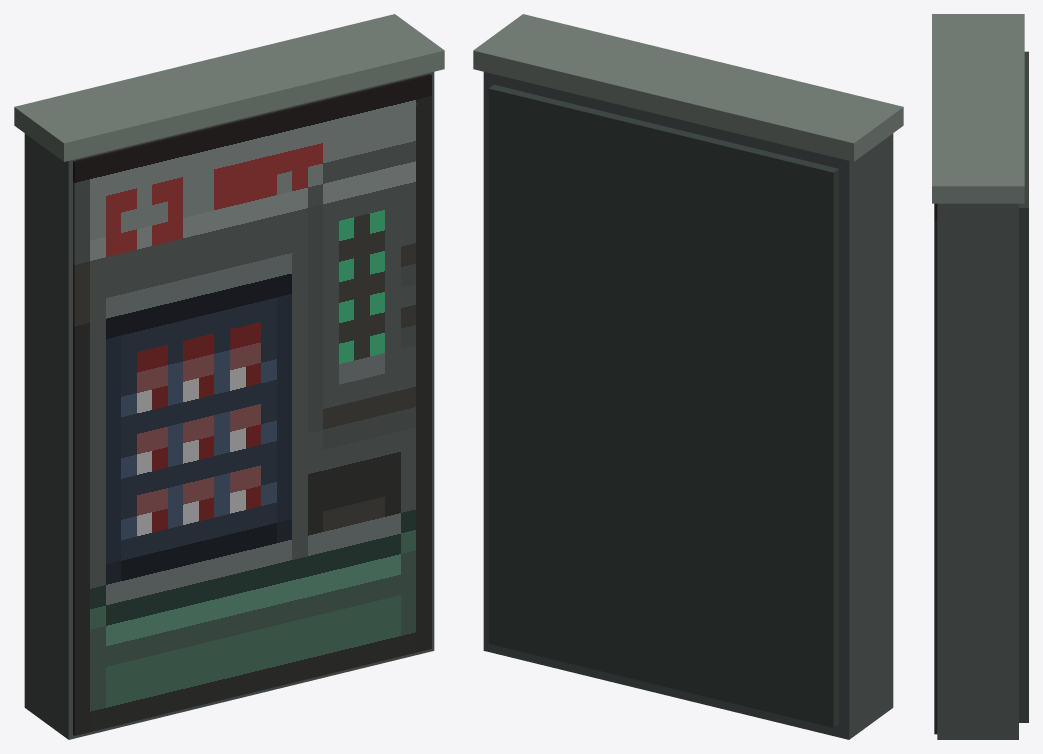
File: CMU3DInteriorVehicleInteriorBloodVendor.glb
The picture shows the model from 3 angles, left to right: view 1: azimuth 30°, elevation 25°; view 2: azimuth 150°, elevation 25°; view 3: azimuth 270°, elevation 25°; orthographic projection. The views are drawn at different scales.
Parts seen in each view (by area): view 1: source equipment controls, closed equipment casing, reinforced top; view 2: rear service plate, closed equipment casing, reinforced top; view 3: closed equipment casing, reinforced top, rear service plate, source equipment controls.
Boxes of the visible parts, x1,y1,x2,y2 form: source equipment controls: (73, 74, 431, 735); closed equipment casing: (24, 72, 434, 739); reinforced top: (14, 14, 444, 161); rear service plate: (488, 84, 838, 727); closed equipment casing: (483, 72, 893, 739); reinforced top: (473, 14, 903, 161); closed equipment casing: (937, 203, 1018, 739); reinforced top: (932, 14, 1024, 203); rear service plate: (1019, 51, 1028, 722); source equipment controls: (934, 203, 937, 734).
Size of the model in its own units: 0.7488 by 1.13 by 0.178.
Materials: 4 (1 with a texture image).
